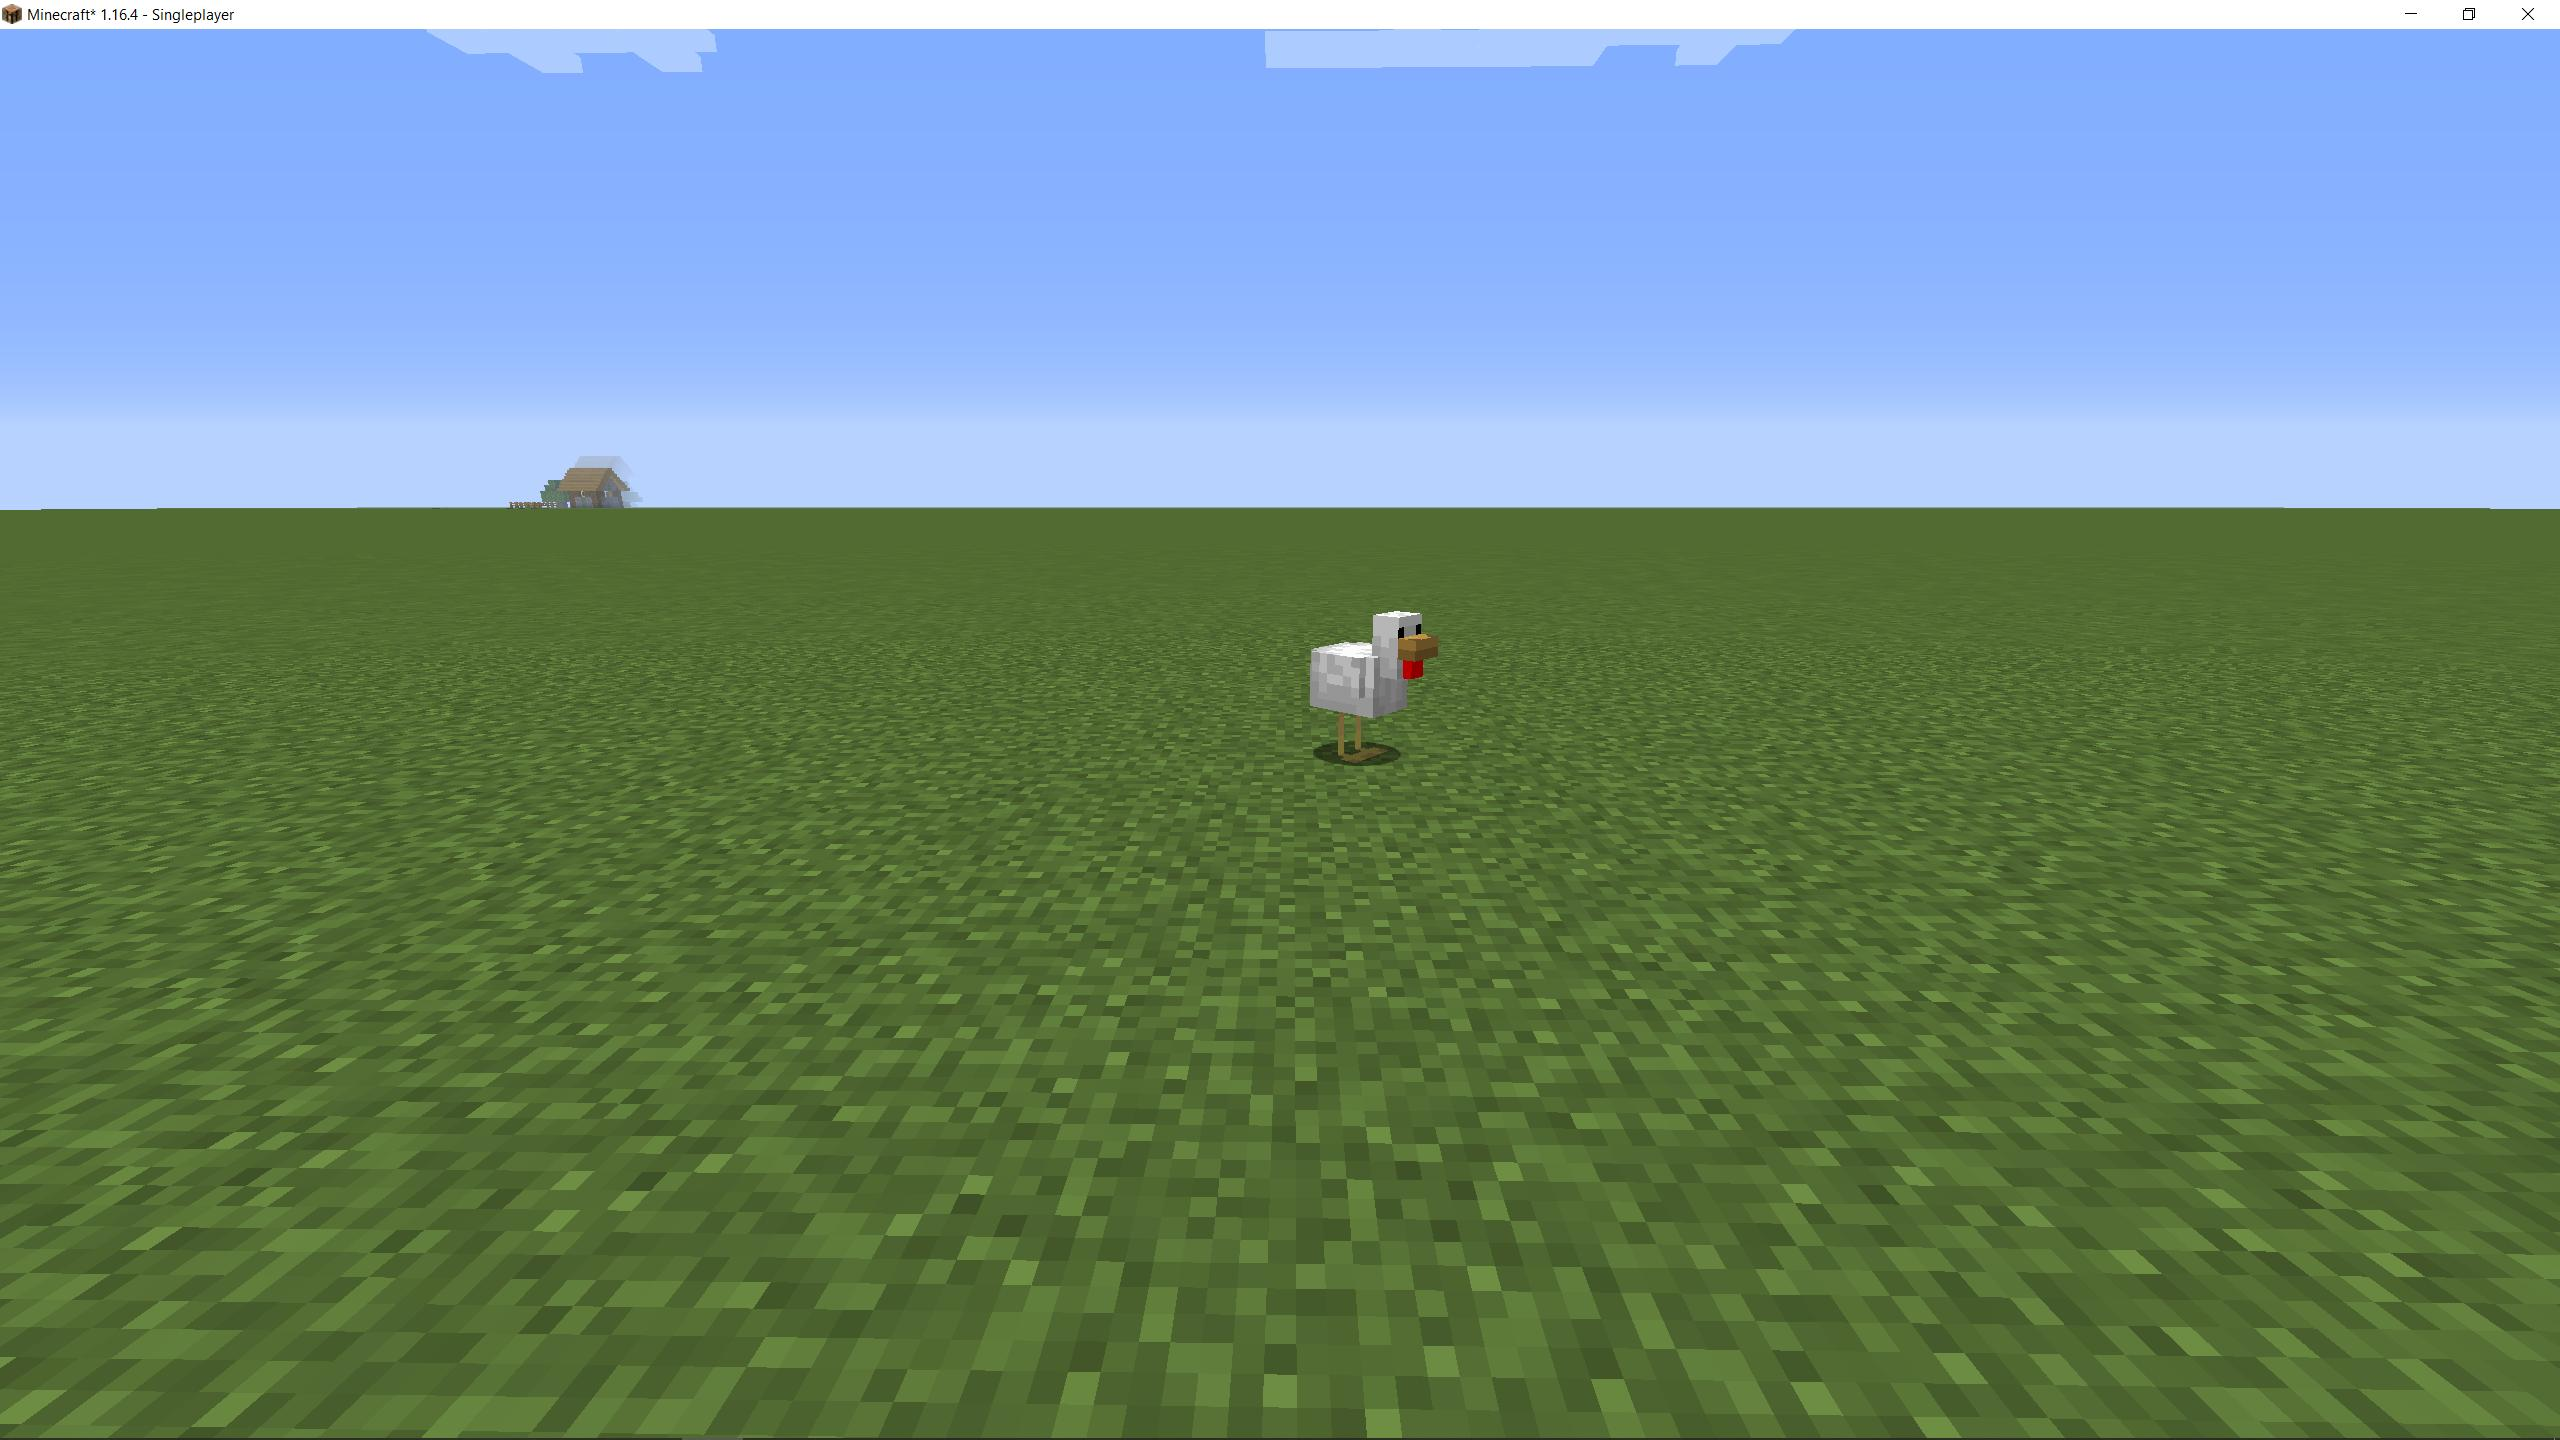chicken: (1305, 601, 1440, 767)
